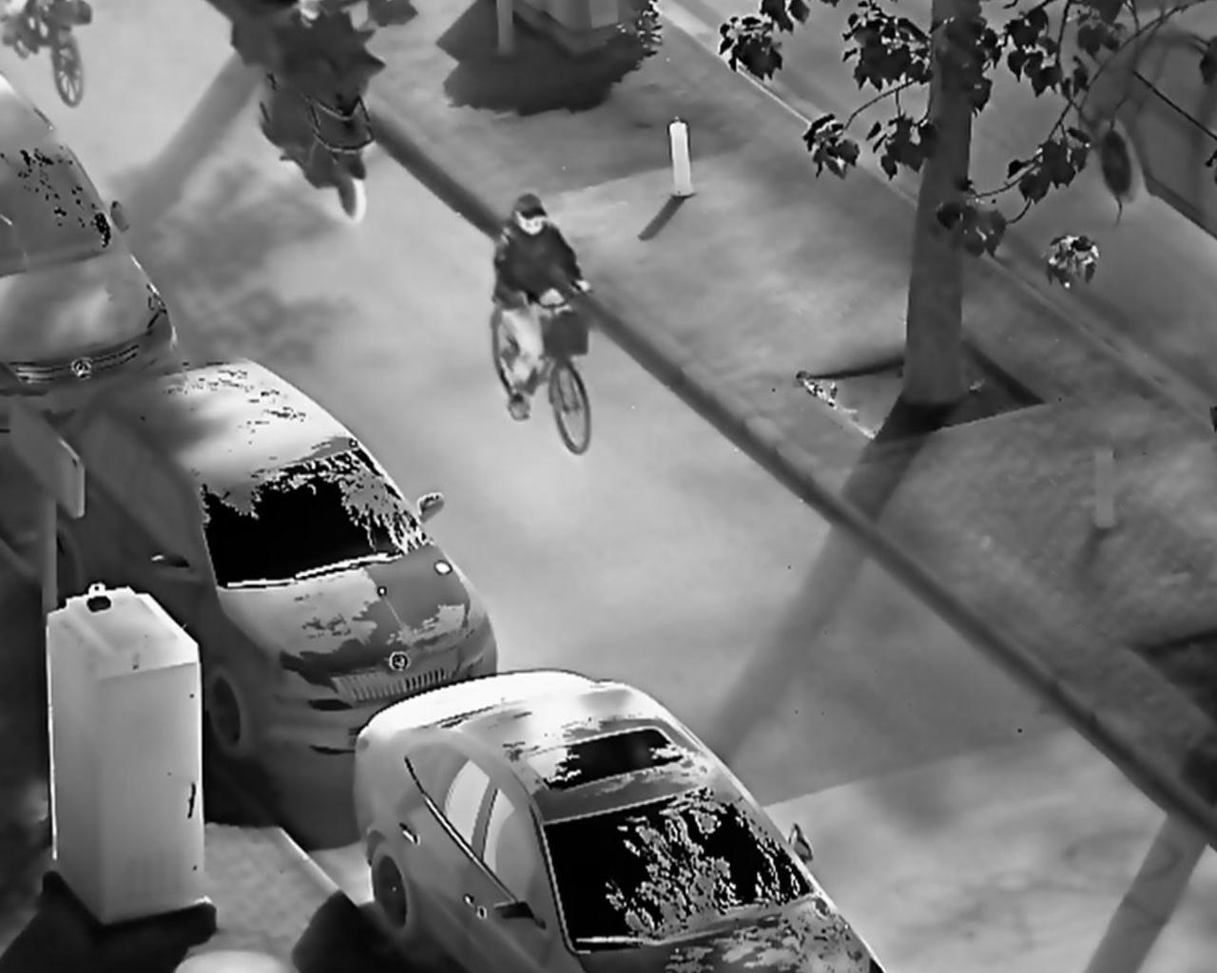person: (489, 194, 594, 426)
